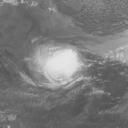cyclone: (32, 41, 86, 87)
